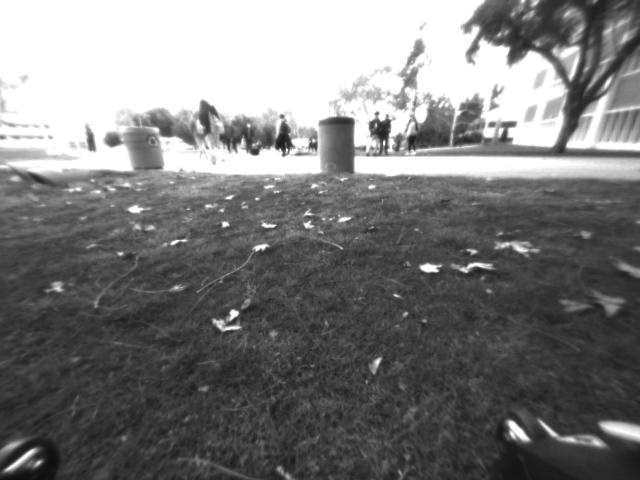trashcan: (314, 118, 357, 172), (124, 124, 164, 175)
